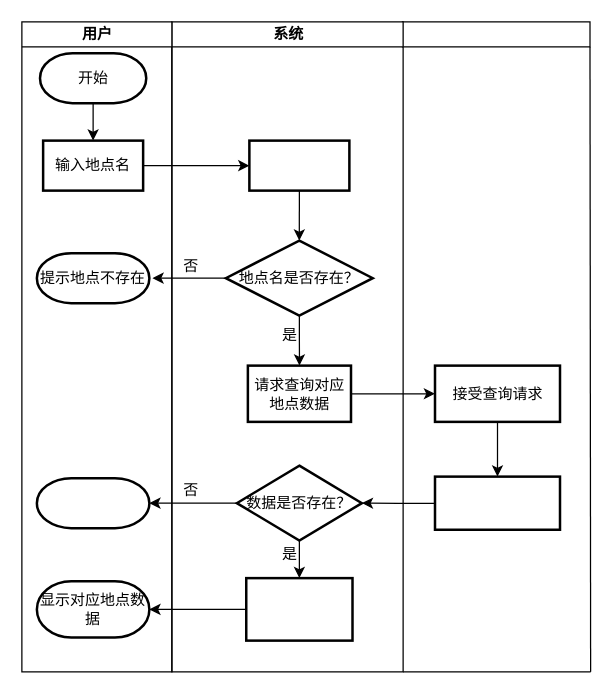
Image size: 614x695. Some labels were removed from this diagram. Each missing label, with the centre of its shape:
"对数据进行可视化处理" belongs at [298,608].
"接收地点名" belongs at [299,165].
"提示数据不存在" belongs at [92,502].
"数据库" belongs at [495,34].
"查询对应地点数据" belongs at [497,502].
